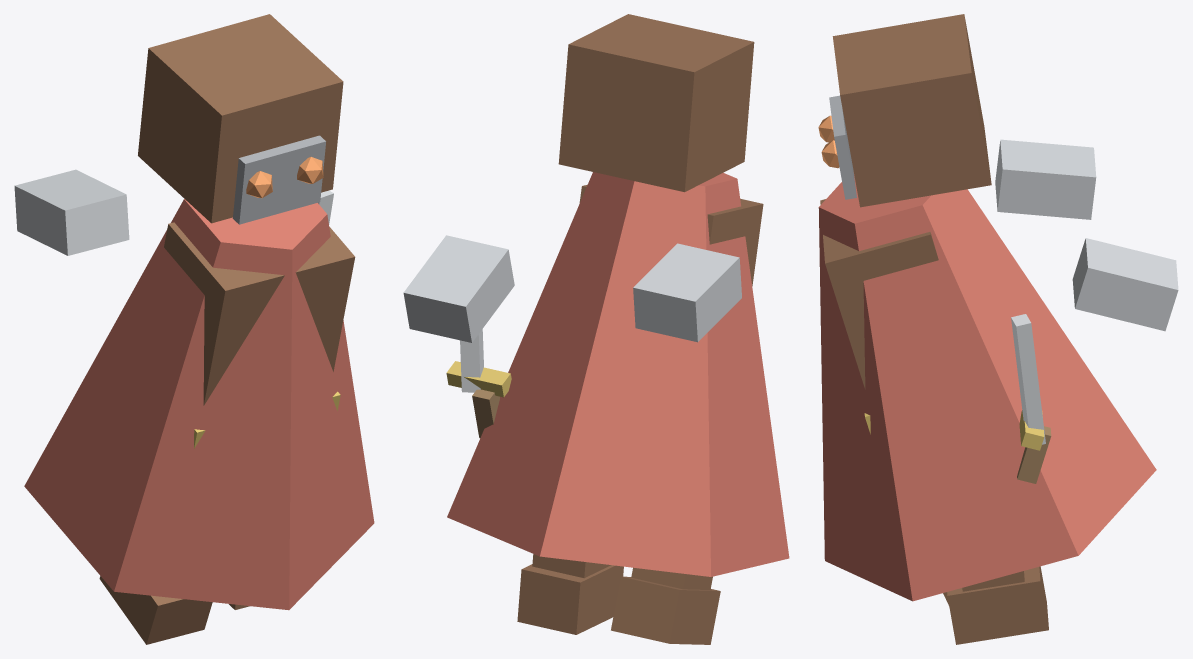
File: npcpose_raider_idle_01.glb
3 views of the same model, side by side, from view 1: azimuth 30°, elevation 25°; view 2: azimuth 150°, elevation 25°; view 3: azimuth 270°, elevation 25° (orthographic). The views are drawn at different scales.
Parts seen in each view (by area): view 1: npcpose; view 2: npcpose; view 3: npcpose.
Boxes of the visible parts, x1,y1,x2,y2 form: npcpose: (14, 14, 374, 644); npcpose: (403, 14, 789, 644); npcpose: (818, 14, 1178, 644).
Bounding box in the file's own units: 0.8154 × 1.62 × 0.9169.
